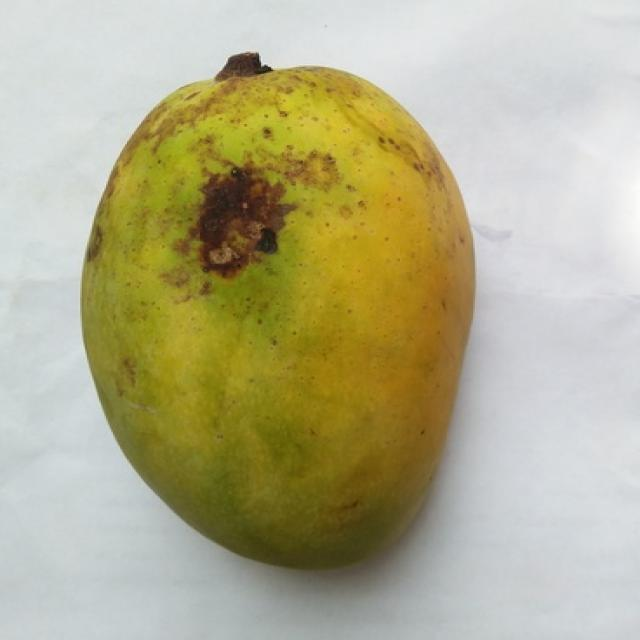Mango: (82, 54, 473, 566)
